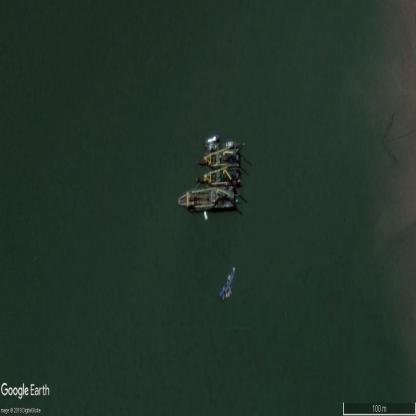ship: (175, 185, 237, 211), (201, 143, 241, 167), (198, 164, 242, 184)
